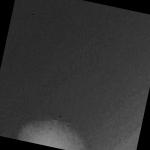colony: (9, 106, 97, 150)
